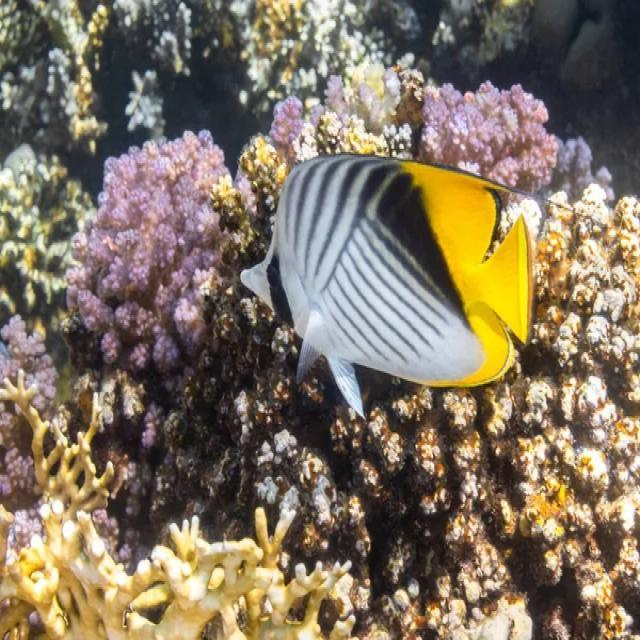ButterflyFish: (204, 144, 539, 412)
